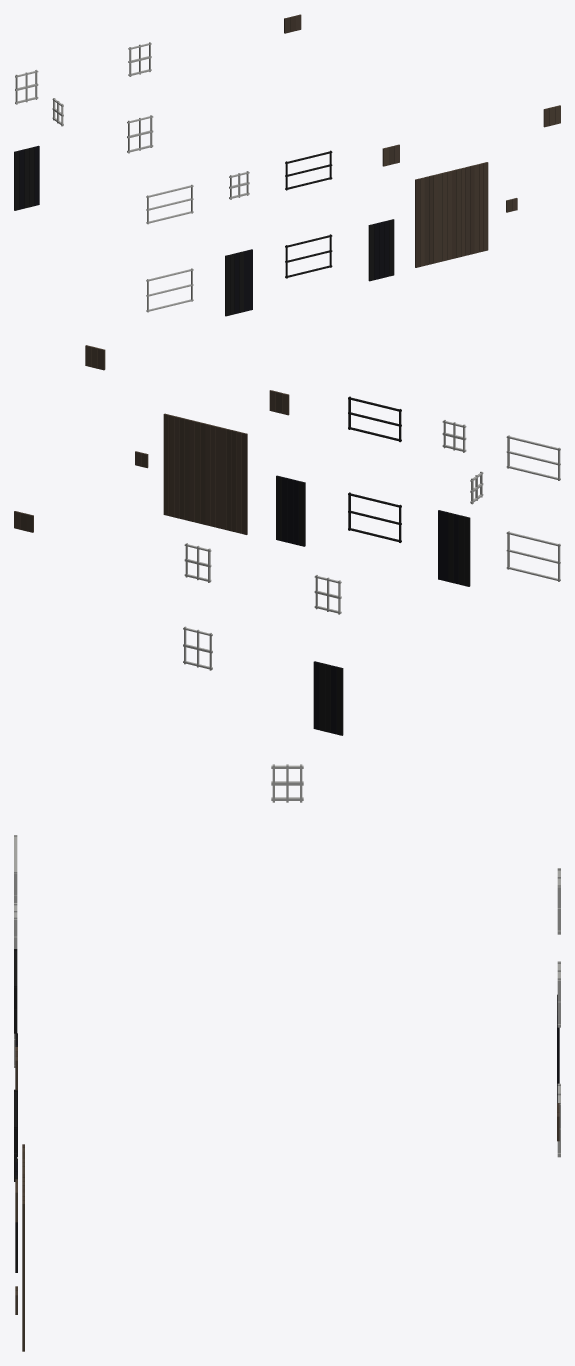
The model's file is SM_Bld_013_Wood.glb.
The picture shows the model from 3 angles, top to bottom: view 1: azimuth 30°, elevation 25°; view 2: azimuth 150°, elevation 25°; view 3: azimuth 270°, elevation 25°; orthographic projection. The views are drawn at different scales.
Parts seen in each view (by area): view 1: SM_Bld_013_Wood; view 2: SM_Bld_013_Wood; view 3: SM_Bld_013_Wood.
Boxes of the visible parts, bbox=[...] form: SM_Bld_013_Wood: bbox=[14, 14, 560, 316]; SM_Bld_013_Wood: bbox=[14, 345, 560, 735]; SM_Bld_013_Wood: bbox=[14, 764, 560, 1351].
Size of the model in its own units: 15.1 by 6.05 by 10.05.
